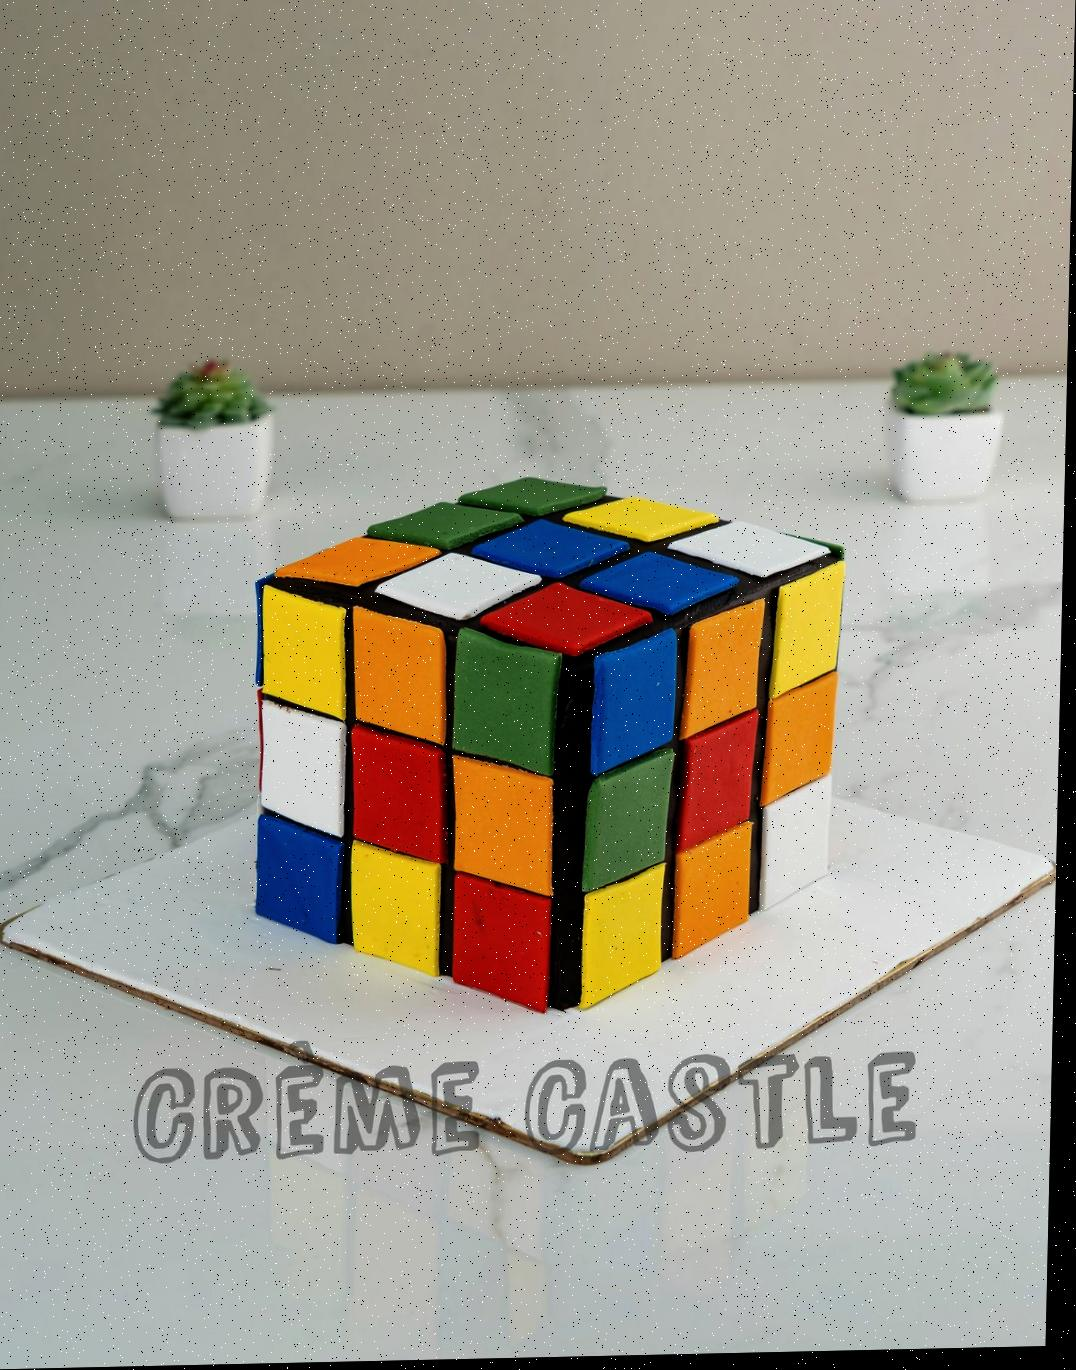cube: (199, 471, 910, 1040)
